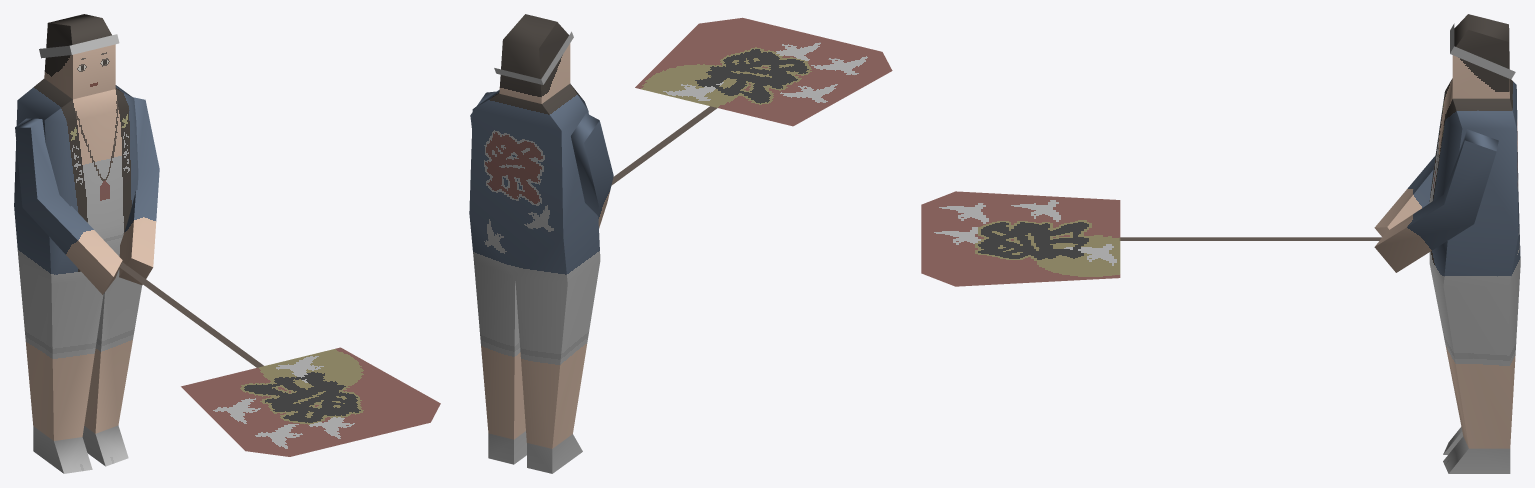
The model's file is 0245_Paper_Fan_Man.glb.
3 renders of one model, left to right at view 1: azimuth 30°, elevation 25°; view 2: azimuth 150°, elevation 25°; view 3: azimuth 270°, elevation 25°, orthographic.
Visible parts, largest first — view 1: part_0; view 2: part_0; view 3: part_0.
Boxes of the visible parts, x1,y1,x2,y2 form: part_0: (14,14,440,473); part_0: (469,14,892,473); part_0: (921,14,1520,473).
Bounding box in the file's own units: 0.7877 × 1.68 × 2.09.
Materials: 1 (1 with a texture image).
